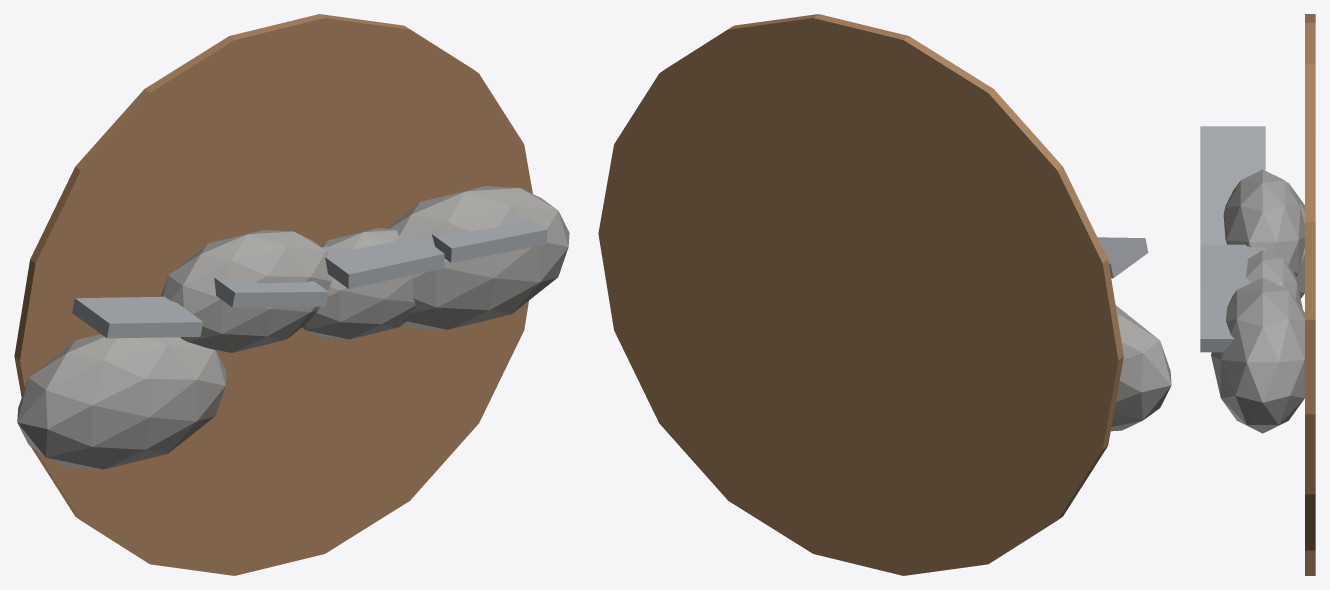
Rendered from 03_ambient_object_cluster.glb.
The picture shows the model from 3 angles, left to right: view 1: azimuth 30°, elevation 25°; view 2: azimuth 150°, elevation 25°; view 3: azimuth 270°, elevation 25°; orthographic projection. The views are drawn at different scales.
Visible parts, largest first — view 1: scatter_base, scrap_rock_0, scrap_rock_3, scrap_rock_1, scrap_rock_2, scrap_plate_0, scrap_plate_2, scrap_plate_3, scrap_plate_1; view 2: scatter_base, scrap_rock_0, scrap_plate_0; view 3: scrap_rock_3, scatter_base, scrap_rock_1, scrap_plate_0, scrap_plate_2, scrap_plate_3, scrap_plate_1, scrap_rock_2, scrap_rock_0.
Boxes of the visible parts, x1,y1,x2,y2 form: scatter_base: (14,14,532,575); scrap_rock_0: (17,334,226,469); scrap_rock_3: (387,186,569,329); scrap_rock_1: (161,230,331,352); scrap_rock_2: (302,228,415,339); scrap_plate_0: (72,296,203,338); scrap_plate_2: (322,237,444,288); scrap_plate_3: (432,216,547,262); scrap_plate_1: (214,277,328,307); scatter_base: (598,14,1123,575); scrap_rock_0: (1111,305,1171,431); scrap_plate_0: (1097,237,1148,278); scrap_rock_3: (1211,277,1304,433); scatter_base: (1305,14,1315,575); scrap_rock_1: (1223,169,1304,276); scrap_plate_0: (1200,126,1265,183); scrap_plate_2: (1200,244,1265,290); scrap_plate_3: (1200,291,1235,352); scrap_plate_1: (1200,183,1237,244); scrap_rock_2: (1246,250,1302,309); scrap_rock_0: (1286,182,1304,298).
Bounding box in the file's own units: 2.02 × 1.87 × 0.3875.
